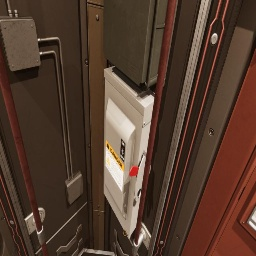SafetySwitchPanel ,: (104, 66, 155, 239)
